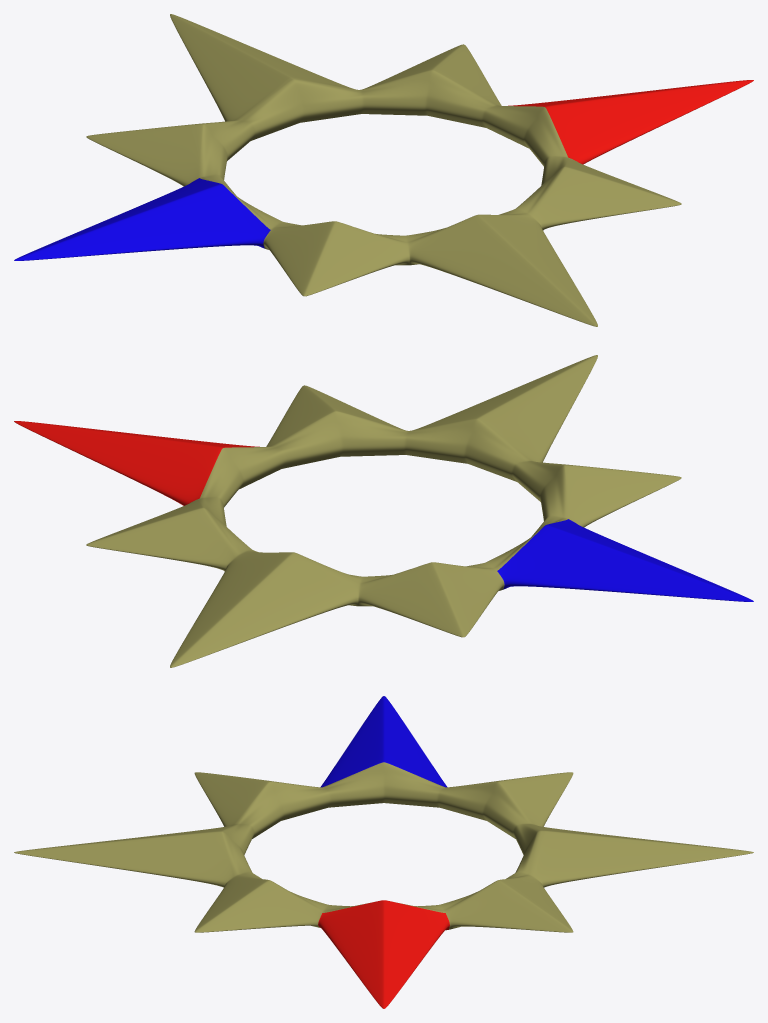
Rendered from V2_star.fbx.
The picture shows the model from 3 angles, top to bottom: view 1: azimuth 30°, elevation 25°; view 2: azimuth 150°, elevation 25°; view 3: azimuth 270°, elevation 25°; orthographic projection. The views are drawn at different scales.
Parts seen in each view (by area): view 1: star Main; view 2: star Main; view 3: star Main.
Boxes of the visible parts, <box> form: star Main: <box>14,14,753,326</box>; star Main: <box>14,355,753,667</box>; star Main: <box>14,696,753,1008</box>.
Size of the model in its own units: 254 by 13 by 254.
